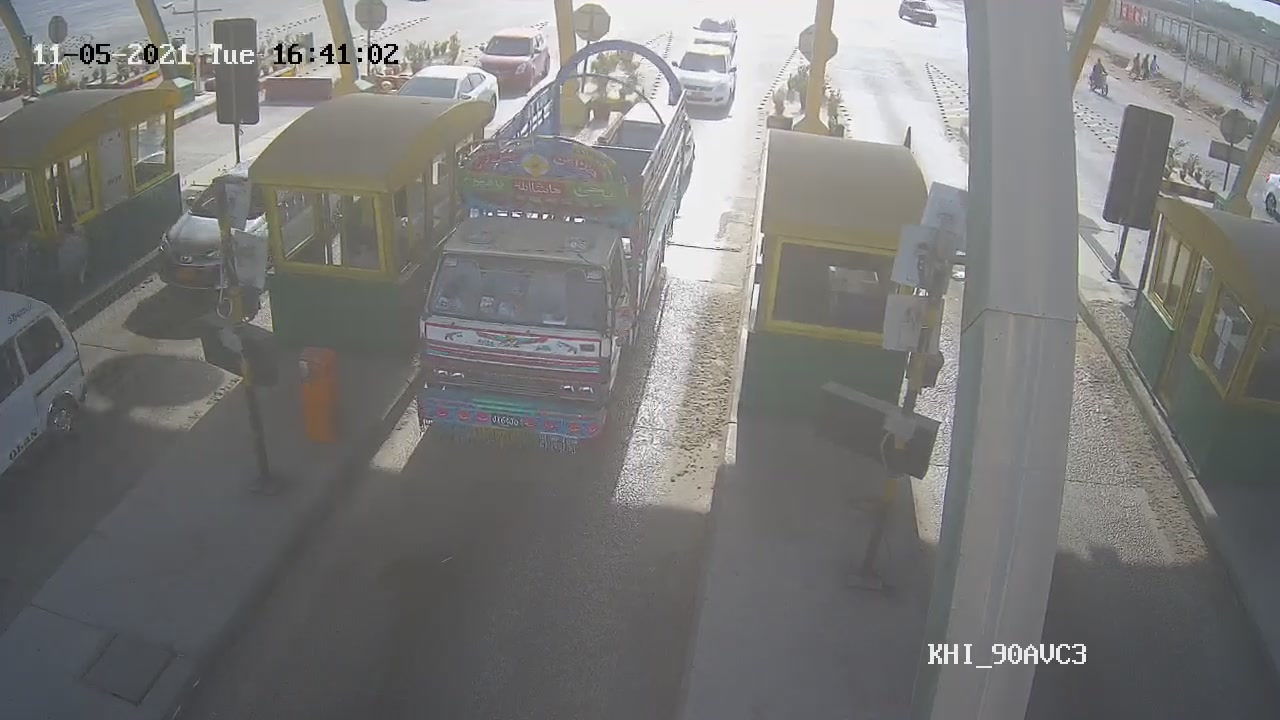F5: (410, 39, 699, 448)
